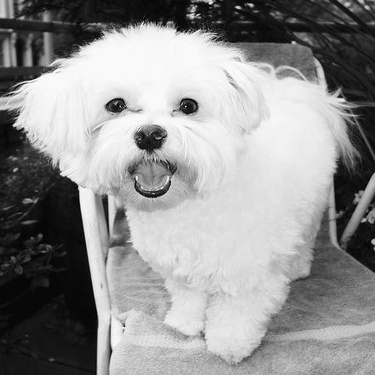dog: (6, 16, 365, 367)
